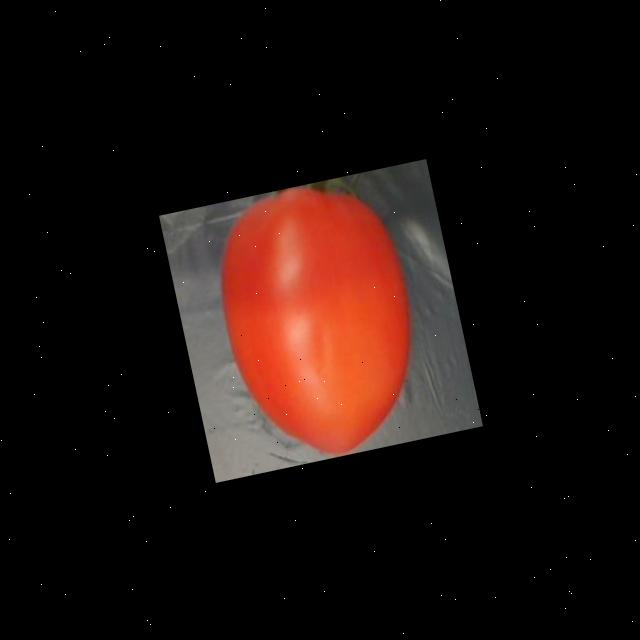tomato: (192, 167, 440, 475)
